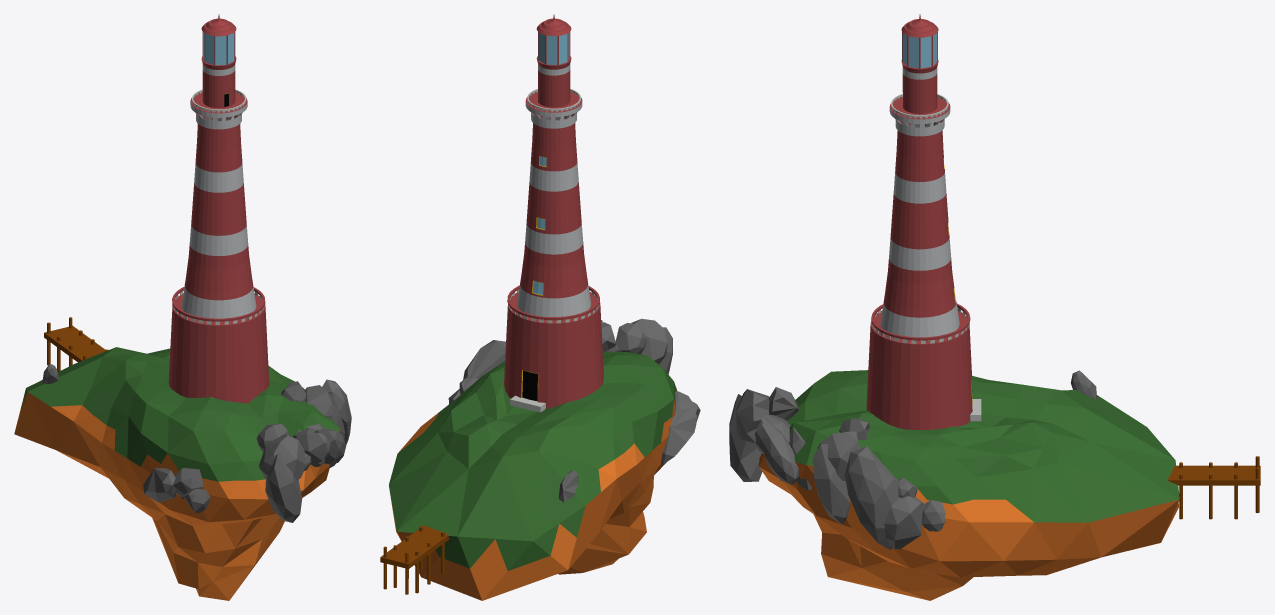
The model's file is Isla1fbx.fbx.
The picture shows the model from 3 angles, left to right: view 1: azimuth 30°, elevation 25°; view 2: azimuth 150°, elevation 25°; view 3: azimuth 270°, elevation 25°; orthographic projection. The views are drawn at different scales.
Parts seen in each view (by area): view 1: Cilindro.005; view 2: Cilindro.005; view 3: Cilindro.005.
Part boxes in pixels (x1=…): Cilindro.005: x1=14, y1=14, x2=351, y2=600; Cilindro.005: x1=380, y1=14, x2=700, y2=600; Cilindro.005: x1=729, y1=14, x2=1260, y2=600.
Bounding box in the file's own units: 15.76 × 37.25 × 30.3.
